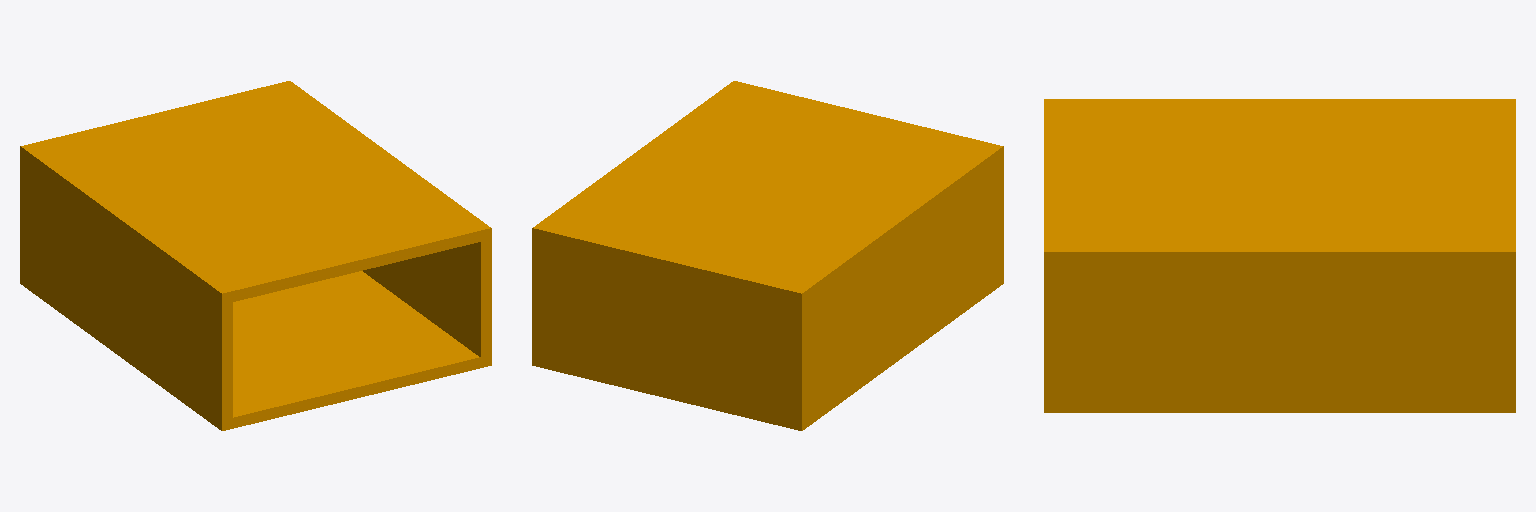
The robot description file, URDF, robot "partA_14":
<?xml version="1.0"?>
<robot name="partA_14">
  <link name="part_link">
    <visual>
      <geometry>
        <mesh filename="Shape_Data_Mesh/usb_cap/14/partA_new.obj" scale="1 1 1"/>
      </geometry>
    </visual>
    <collision>
      <geometry>
        <mesh filename="Shape_Data_Mesh/usb_cap/14/vhacd_partA_new.obj" scale="1 1 1"/>
      </geometry>
    </collision>
    <inertial>
      <mass value="1"/>
      <inertia ixx="0.001" ixy="0" ixz="0" iyy="0.001" iyz="0" izz="0.001"/>
    </inertial>
  </link>
</robot>

--- Render facts (derived) ---
3 views of the same robot in one strip: view 1: azimuth 30°, elevation 25°; view 2: azimuth 150°, elevation 25°; view 3: azimuth 270°, elevation 25° (orthographic).
Model partA_14 with 1 links and 0 joints (none), rooted at part_link, posed every joint at zero.
Links seen in each view (by area): view 1: part_link; view 2: part_link; view 3: part_link.
Boxes of the visible links, x1,y1,x2,y2 form: part_link: (20, 81, 491, 430); part_link: (532, 81, 1003, 430); part_link: (1044, 99, 1515, 412).
Bounding box of the posed robot: 0.6379 × 0.826 × 0.3114 m (x, y, z).
1 mesh visuals loaded from 1 distinct referenced files (1 OBJ).